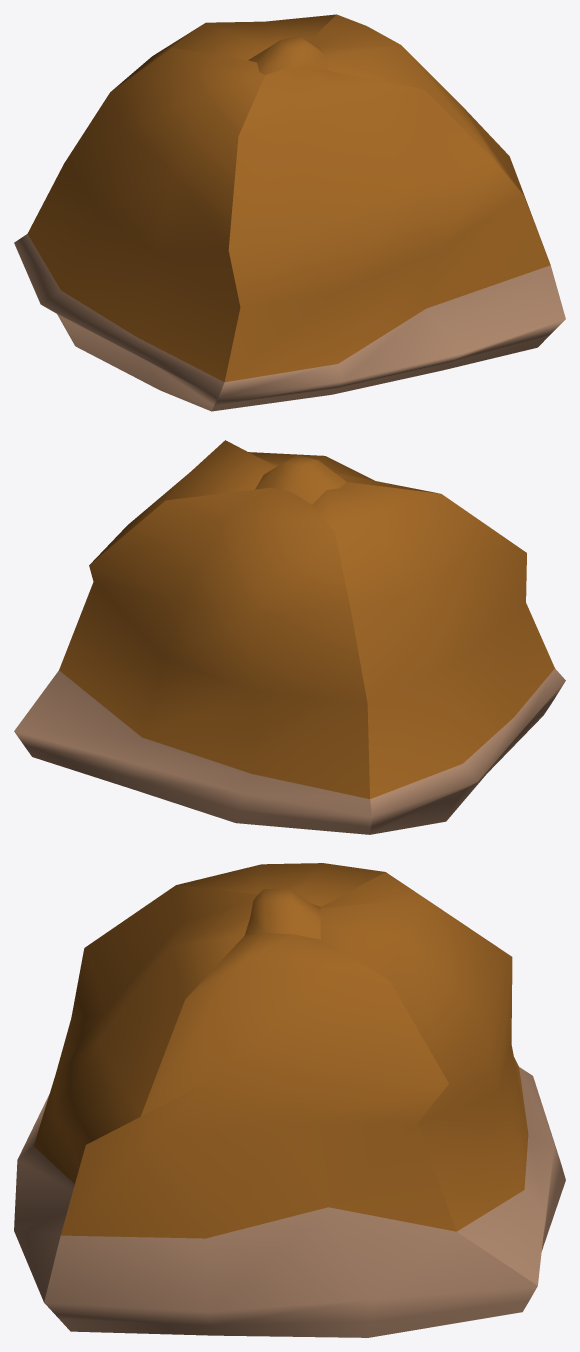
Rendered from Soil_HowPlant.fbx.
The picture shows the model from 3 angles, top to bottom: view 1: azimuth 30°, elevation 25°; view 2: azimuth 150°, elevation 25°; view 3: azimuth 270°, elevation 25°; orthographic projection. The views are drawn at different scales.
Visible parts, largest first — view 1: Soil:Ground1; view 2: Soil:Ground1; view 3: Soil:Ground1.
Boxes of the visible parts, x1=… form: Soil:Ground1: x1=14, y1=14, x2=565, y2=411; Soil:Ground1: x1=14, y1=440, x2=565, y2=834; Soil:Ground1: x1=14, y1=863, x2=565, y2=1337.
Bounding box in the file's own units: 6.65 × 4.42 × 6.21.
